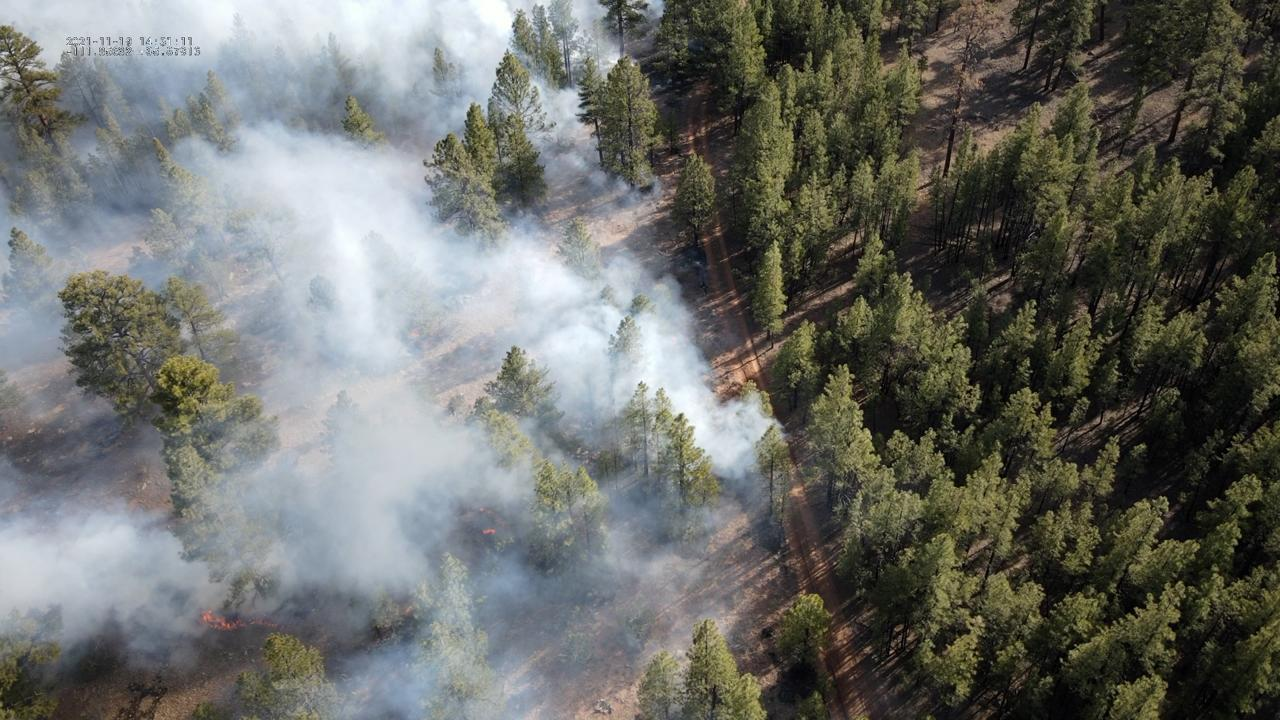fire: (200, 608, 274, 634), (482, 526, 496, 537)
smoke: (1, 0, 785, 720)
